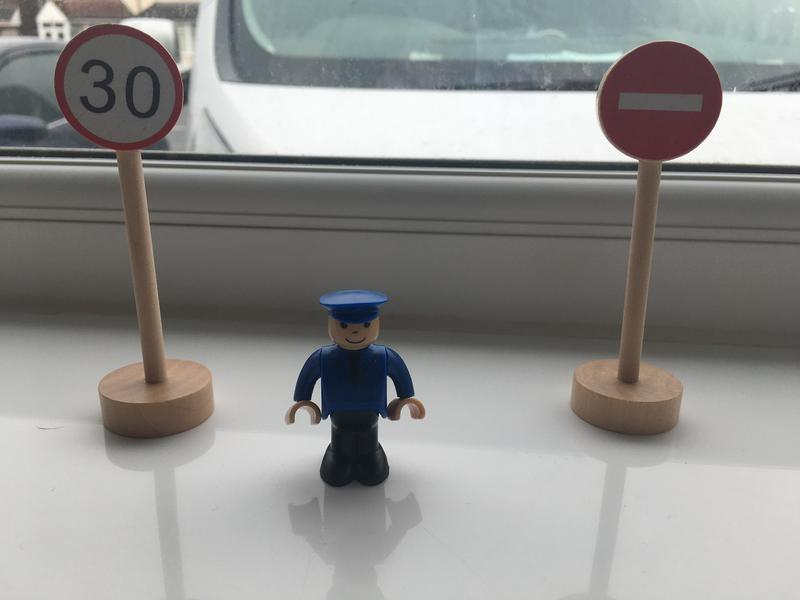Traffic_Sign_30: (54, 24, 183, 151)
Traffic_Sign_No_Entry: (598, 41, 720, 162)
person: (284, 290, 428, 490)
